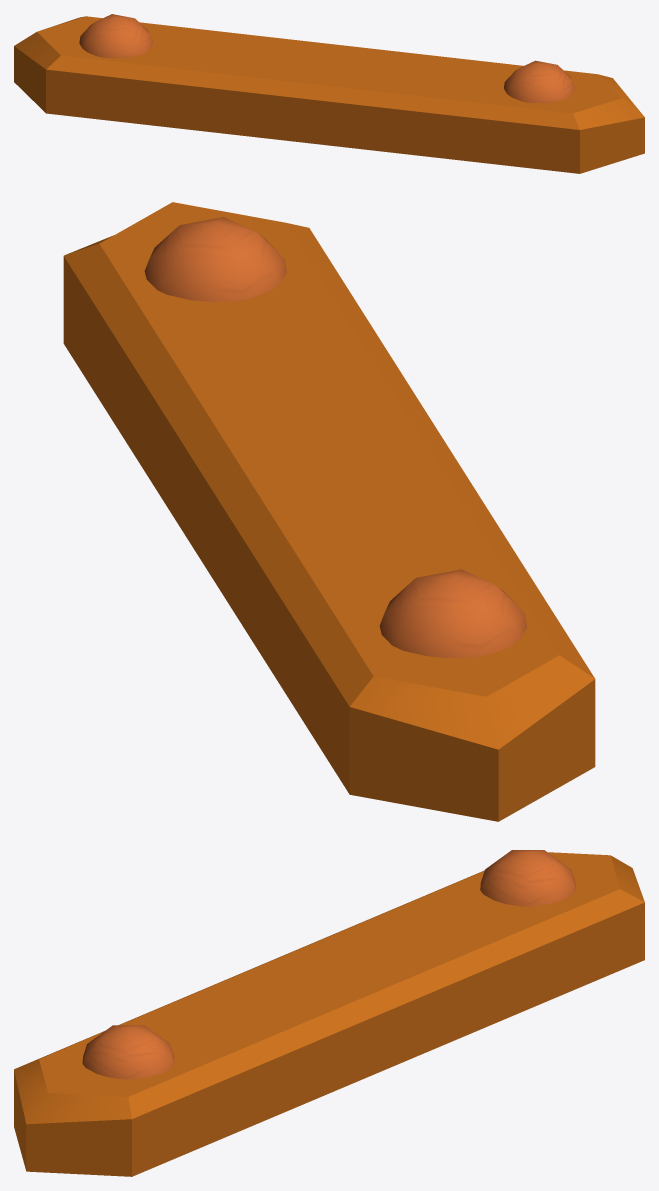
File: cratehit.fbx
3 renders of one model, top to bottom at view 1: azimuth 30°, elevation 25°; view 2: azimuth 150°, elevation 25°; view 3: azimuth 270°, elevation 25°, orthographic. The views are drawn at different scales.
Parts seen in each view (by area): view 1: cratehit; view 2: cratehit; view 3: cratehit.
Boxes of the visible parts, x1=… form: cratehit: x1=14, y1=14, x2=644, y2=173; cratehit: x1=63, y1=202, x2=595, y2=821; cratehit: x1=14, y1=850, x2=644, y2=1176.
Bounding box in the file's own units: 40.63 × 7.32 × 40.63.
